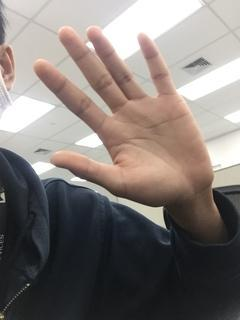hand: (33, 24, 215, 200)
